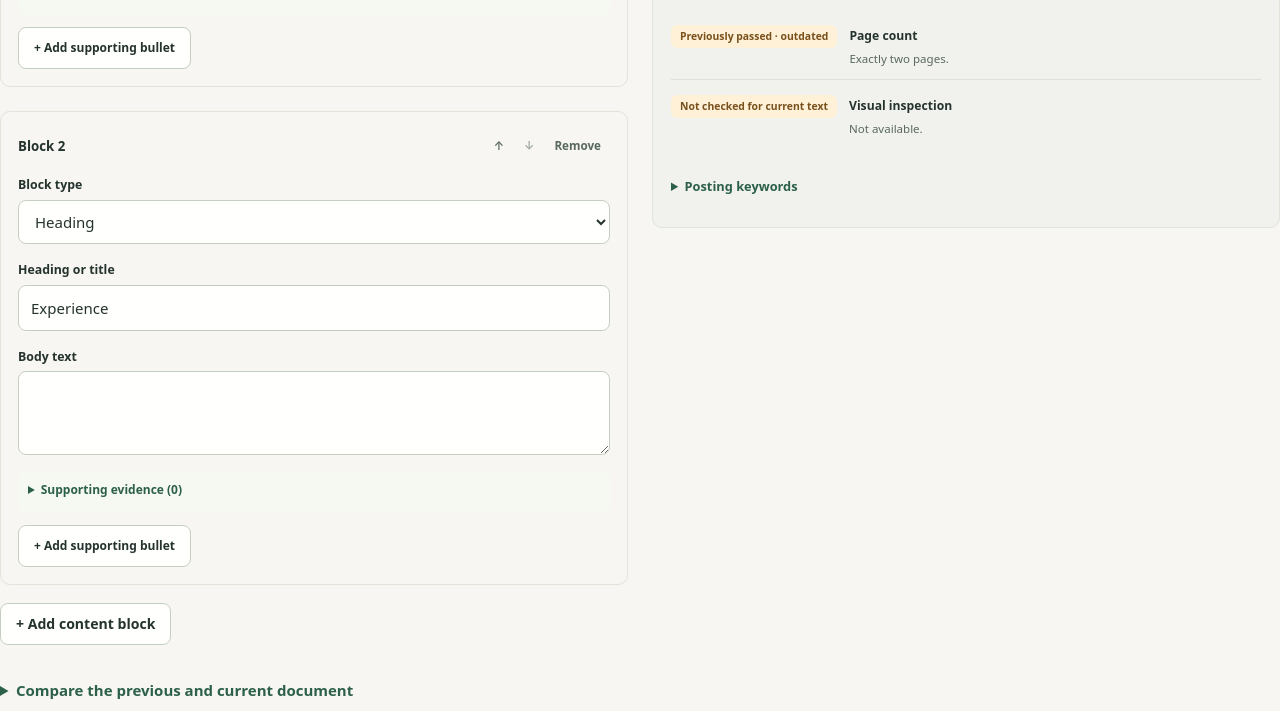
Test: local PDF preview and document revisions › offers a readable before/after when a completed rewrite changes saved content
This screenshot has width=1280, height=711.
(page scrolled)
Click the heading "Compare the previous and current document". click: (185, 690)
box: [16,680,353,700]
(page scrolled)
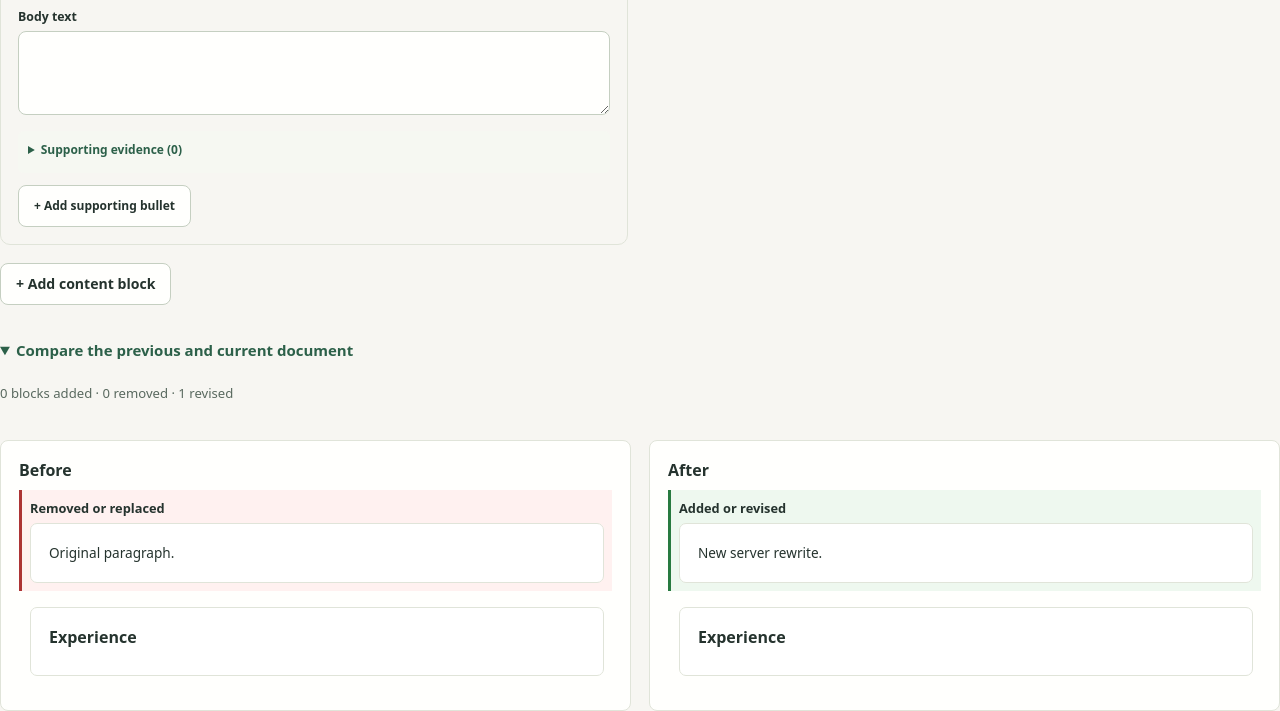
Check: the text "Original paragraph." is shown, box [49,543,174,562]
Check: the text "New server rewrite." is shown, box [698,543,822,562]
